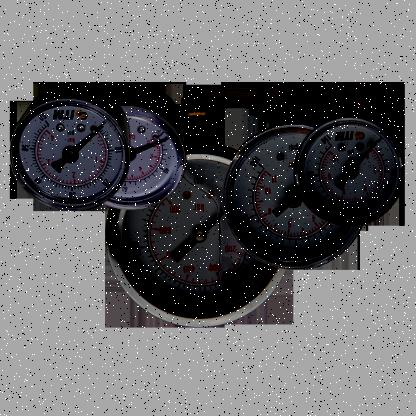needle: (72, 124, 104, 153), (353, 139, 378, 169), (134, 137, 169, 155)
